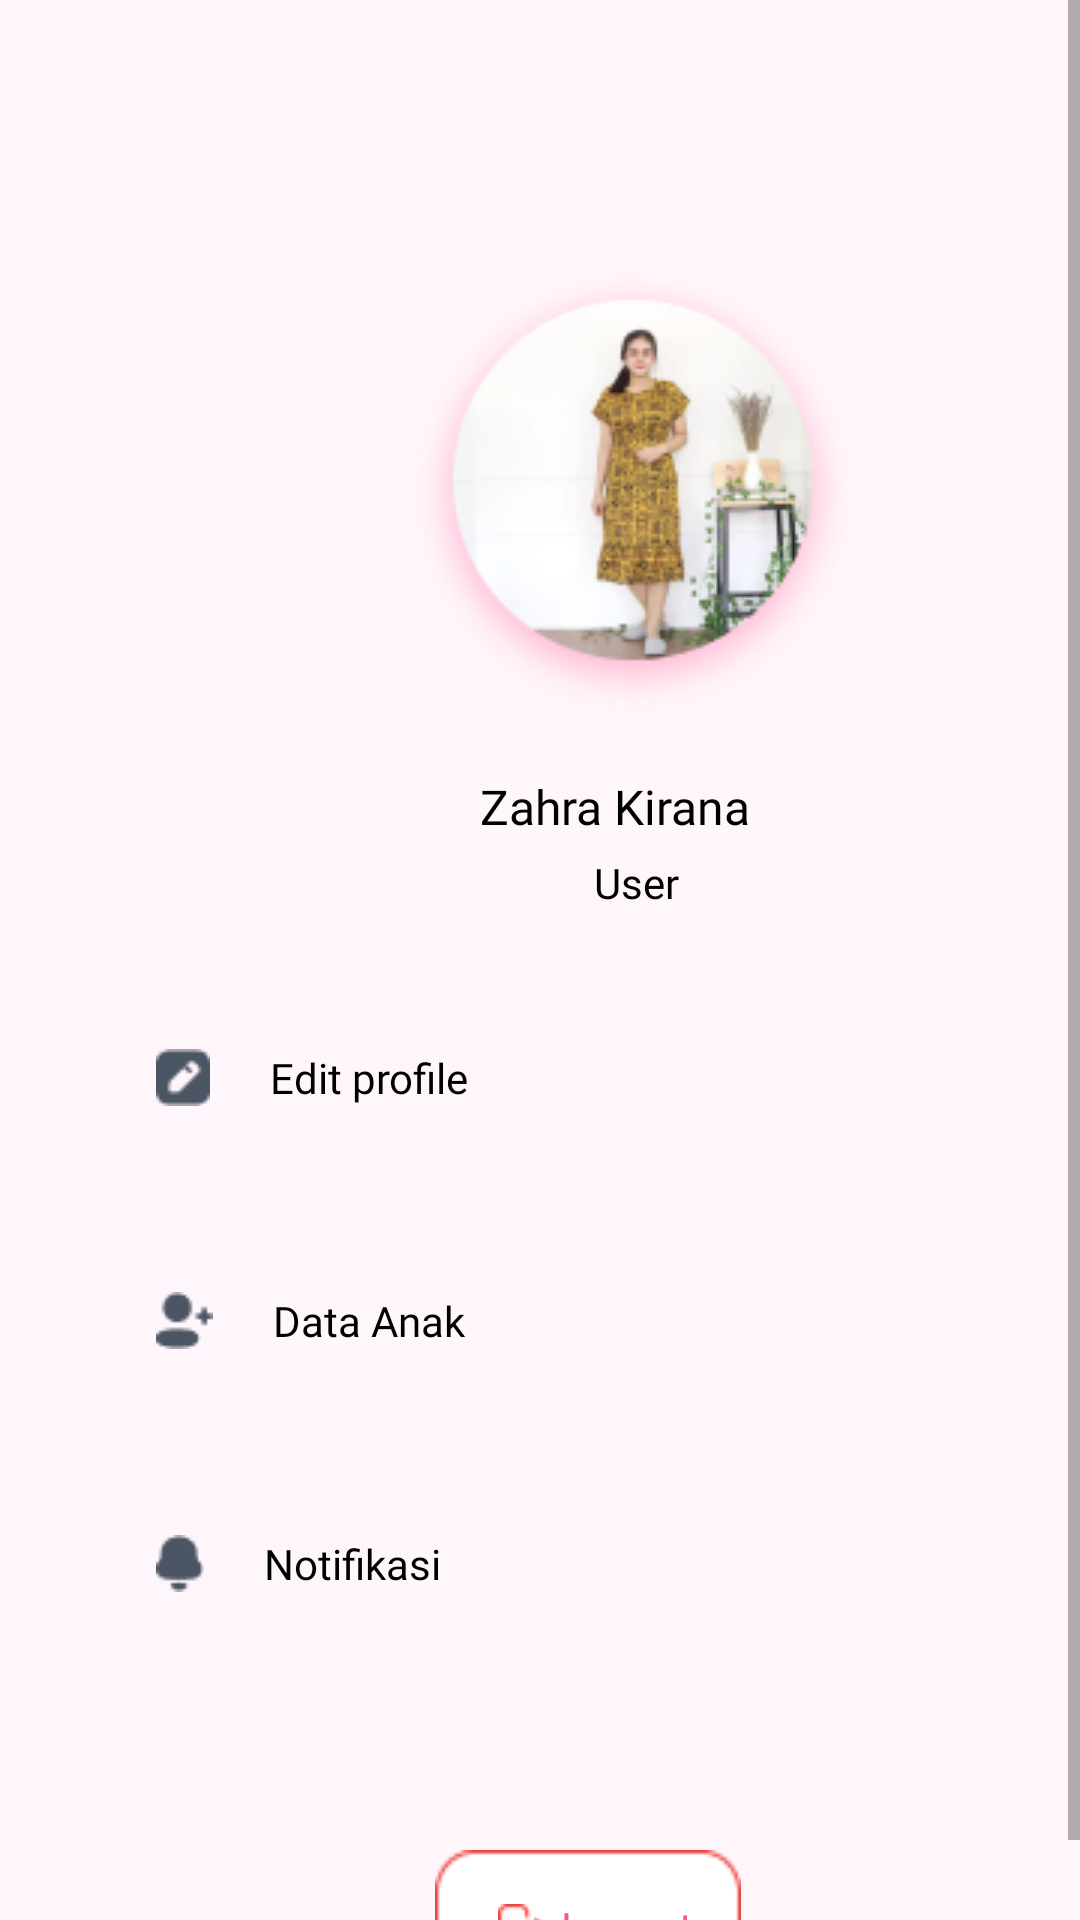

Screen size 1080×1920. Icon name, then its center in pixels as (x=x, y=y):
edir profile: (x=183, y=1077)
profile tambah: (x=184, y=1320)
